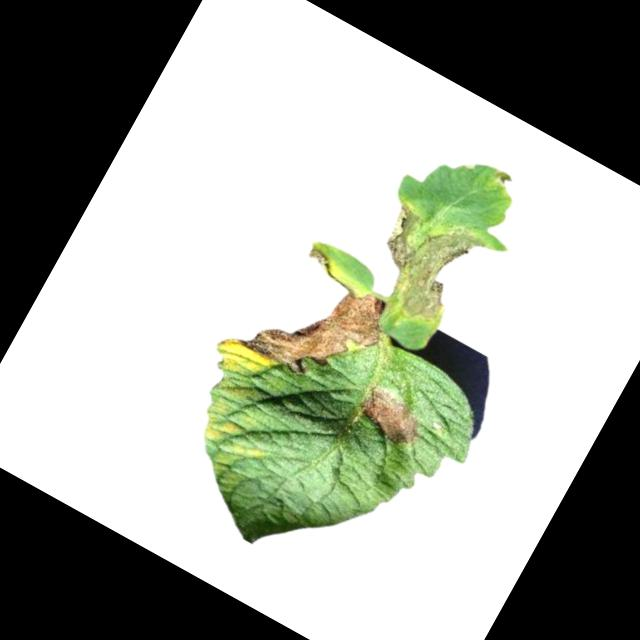Late_blight: (239, 250, 396, 407), (351, 190, 493, 337), (352, 381, 430, 450), (302, 245, 345, 283), (485, 166, 517, 196)
